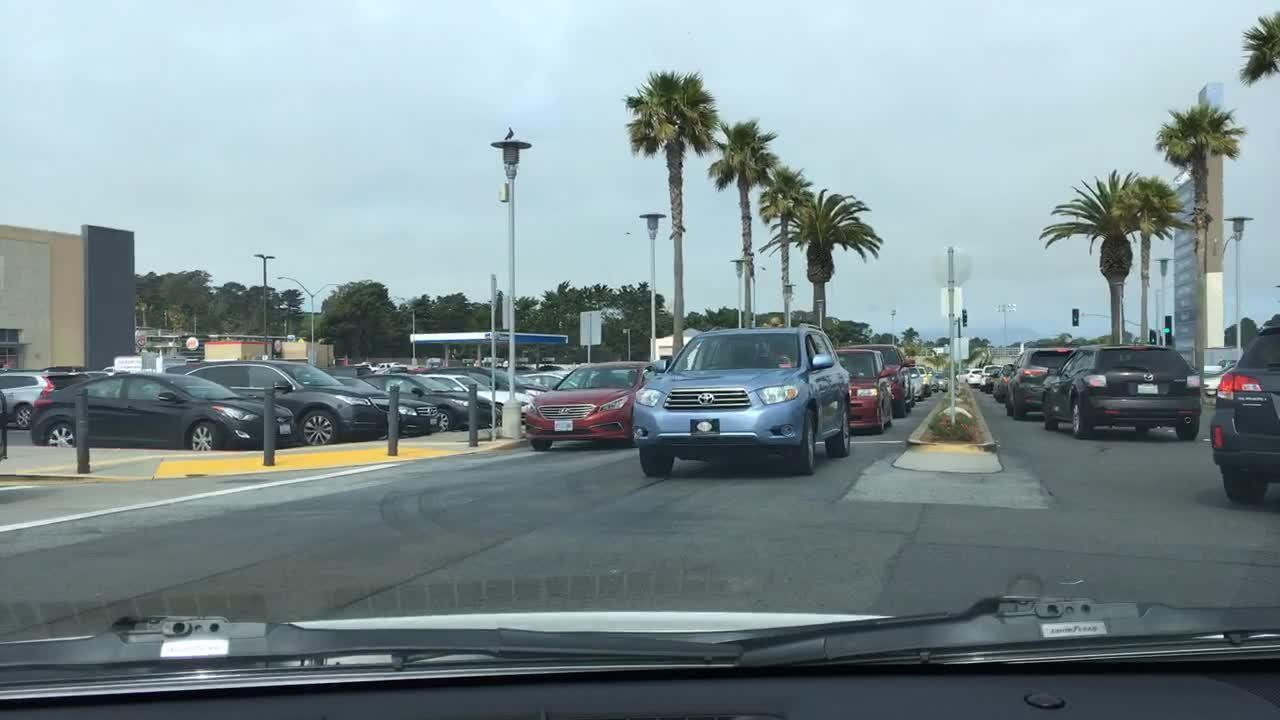Mazda: (1139, 370, 1157, 385)
Toyota: (696, 389, 716, 408)
